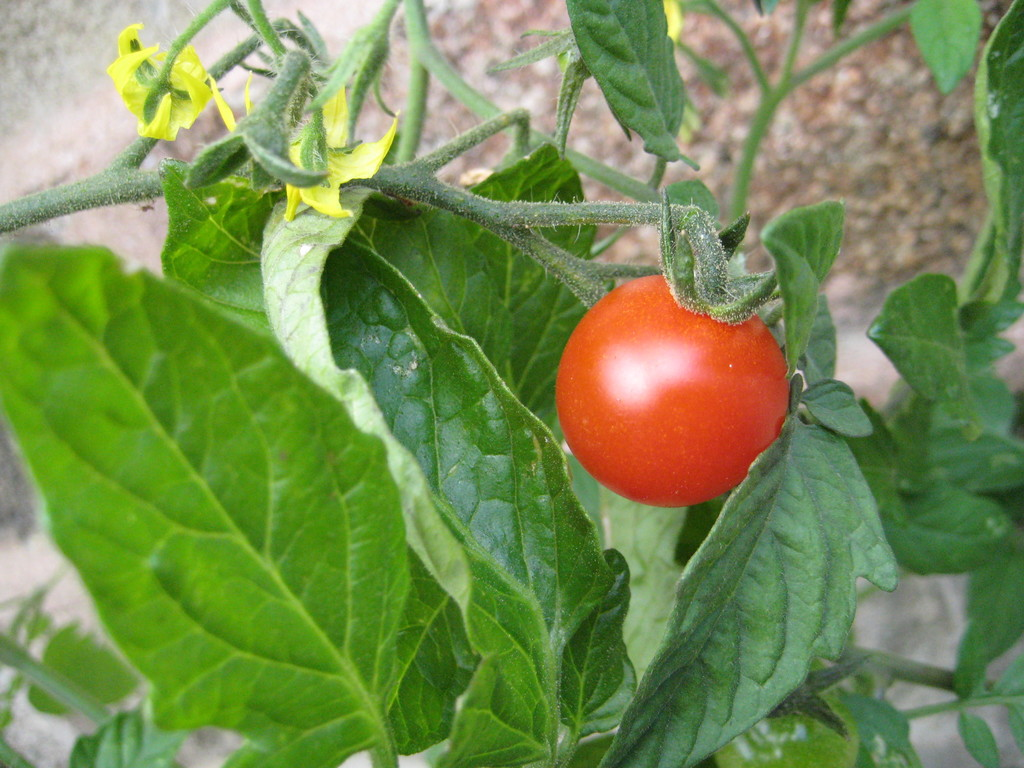Tomato: (549, 272, 797, 503)
